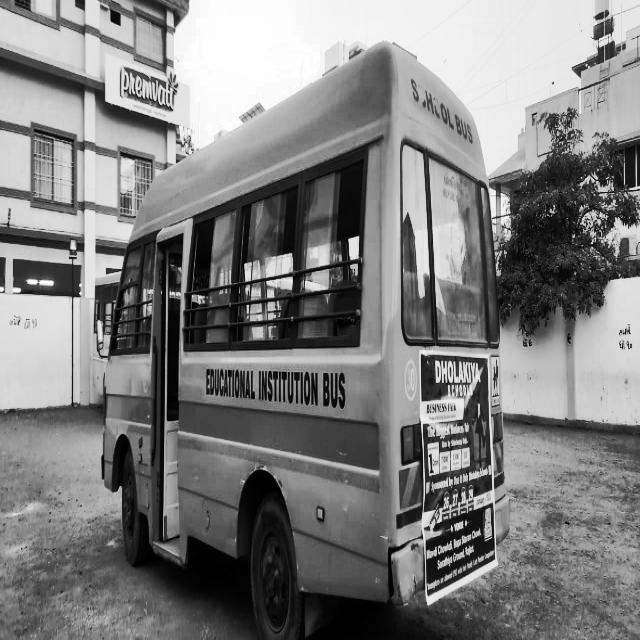Bus: (97, 26, 533, 634)
